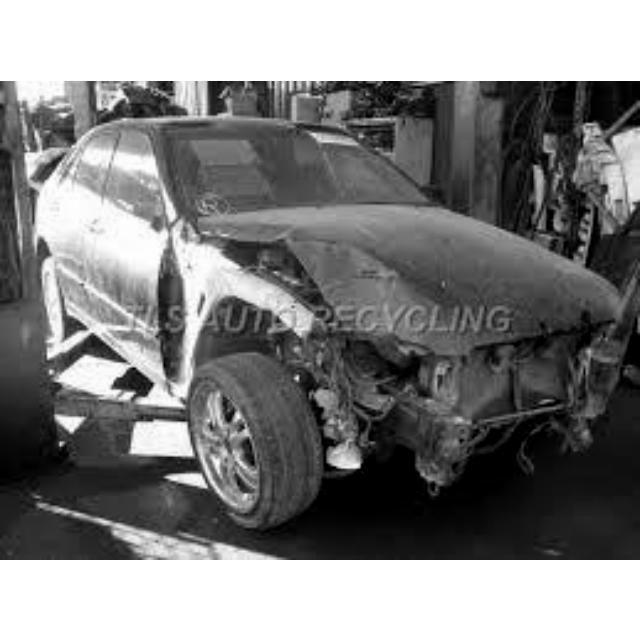bonnet-dent: (245, 204, 581, 330)
